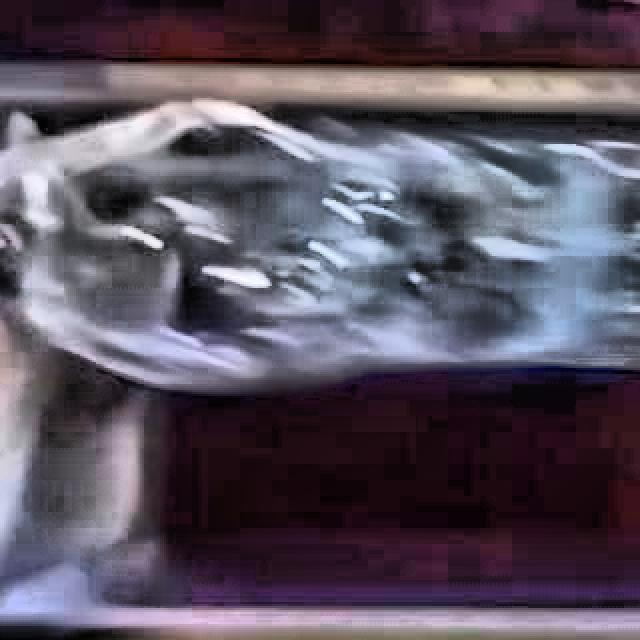plastic: (0, 101, 640, 392)
